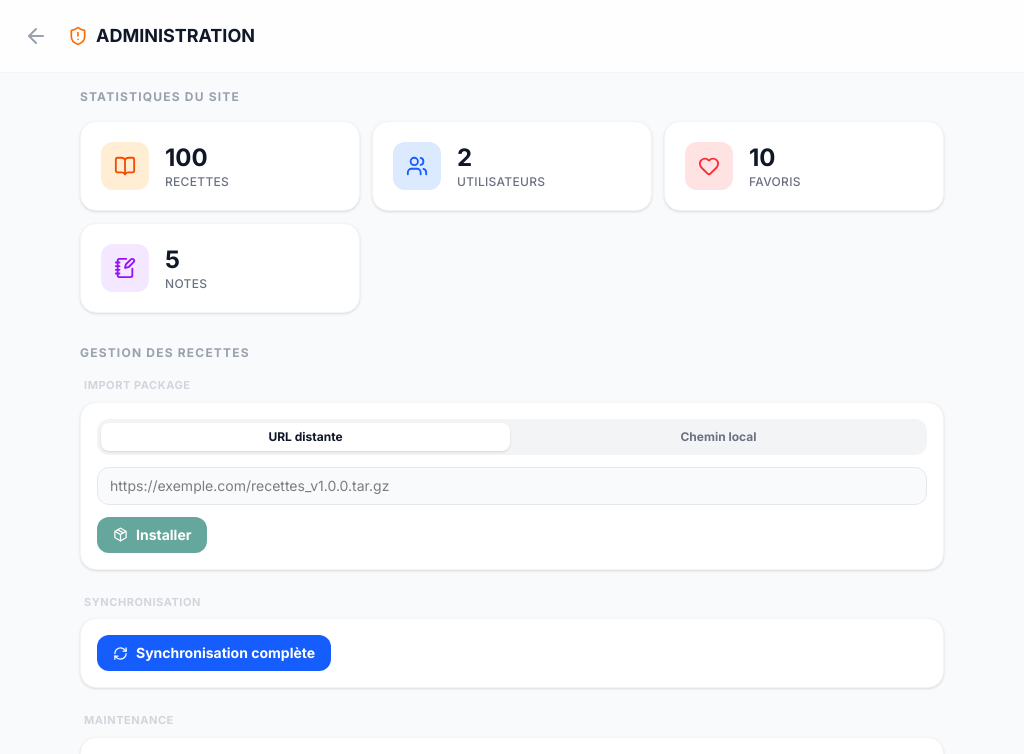
Test: AdminPage — sync progress › affiche le résumé final après la sync
What coordinates should you click on to do the following:
click the button "Synchronisation complète"
I would click on:
 (214, 653)
Its box is [97,635,331,671].
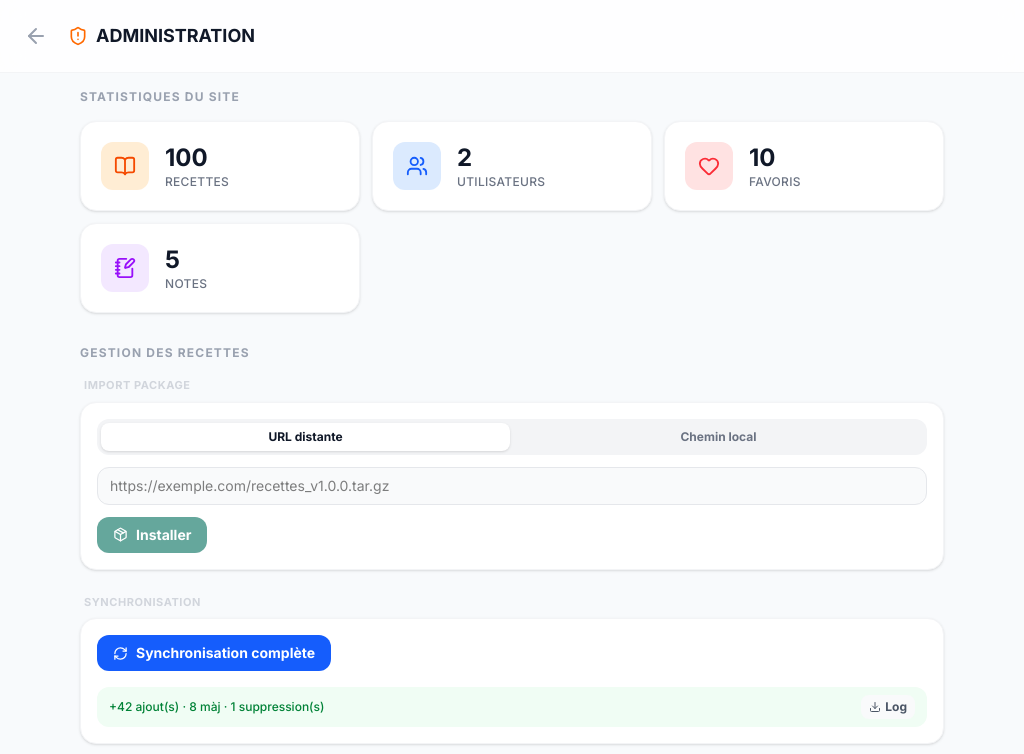
Expected: the text "+42 ajout(s) · 8 màj · 1 suppression(s)" is shown, [109,699,324,715]
